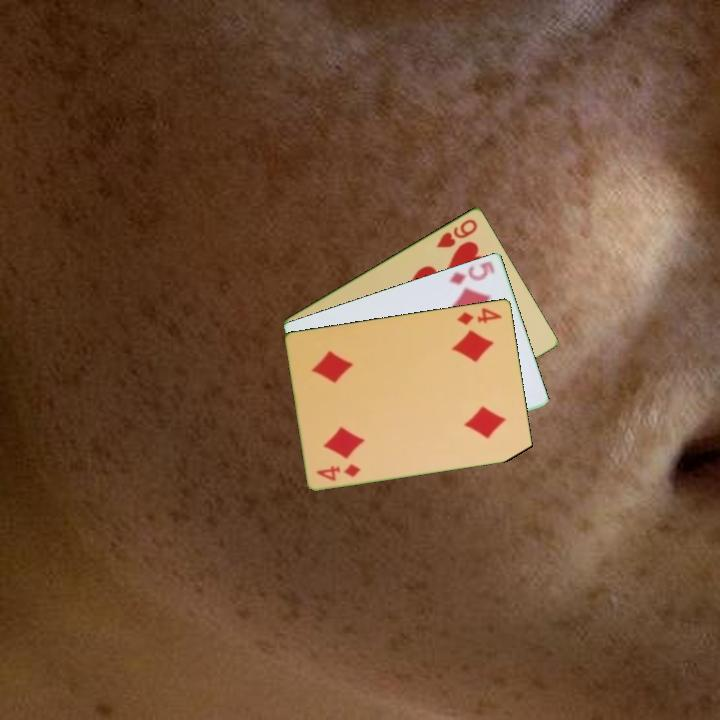4d: (454, 304, 505, 328), (313, 460, 363, 484)
5d: (446, 257, 498, 288)
9h: (432, 215, 480, 250)
